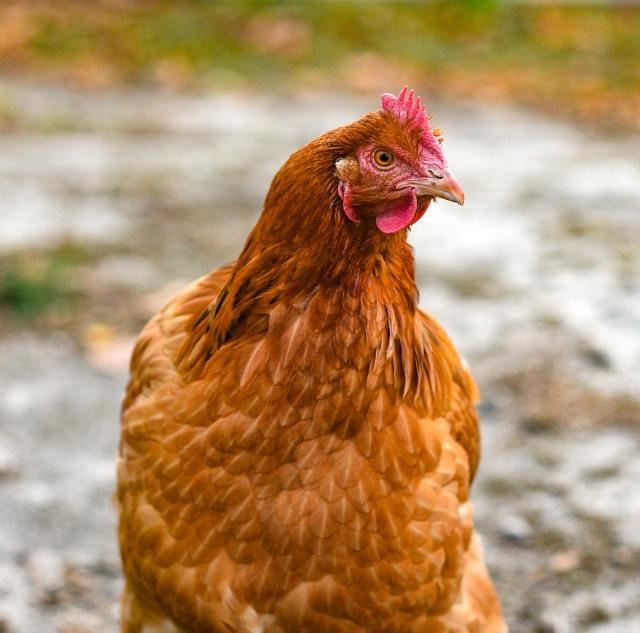Chicken: (115, 81, 508, 633)
